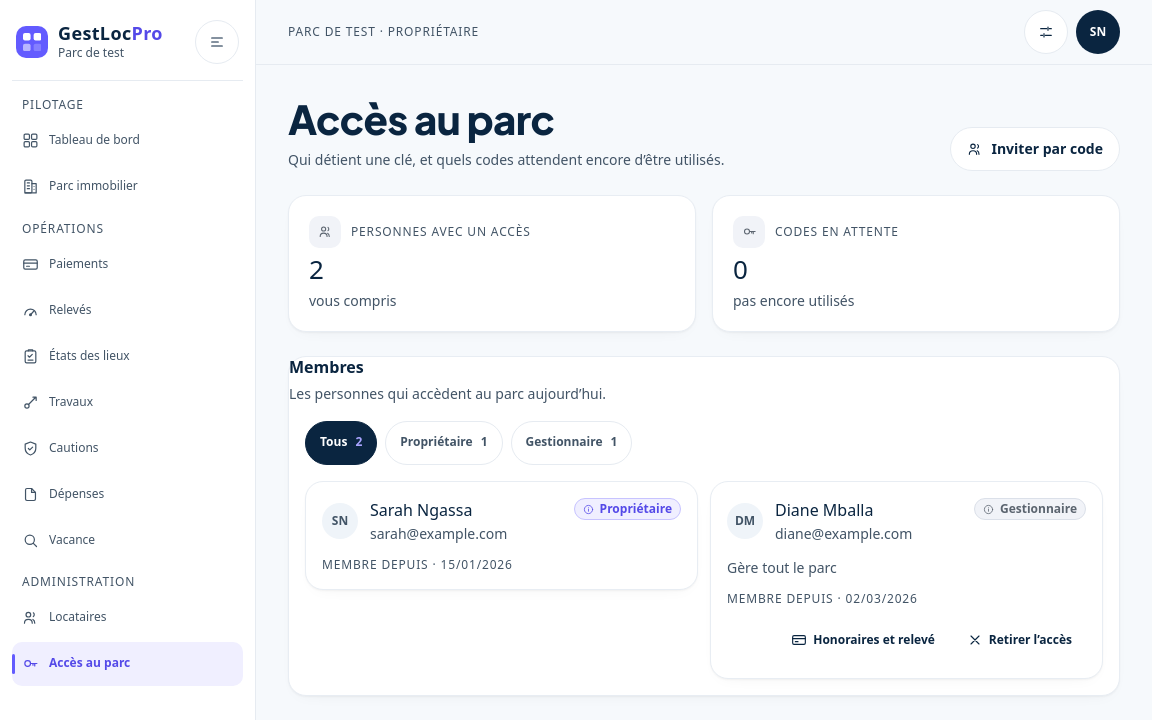
ce que la boîte dit du compte-rendu › ANNONCE UN CALCUL VIVANT tant que rien n’est émis
The width and height of the screenshot is (1152, 720).
Click the button with aria-label "Honoraires et relevé — Diane Mballa": (863, 640) [777, 618, 949, 662]
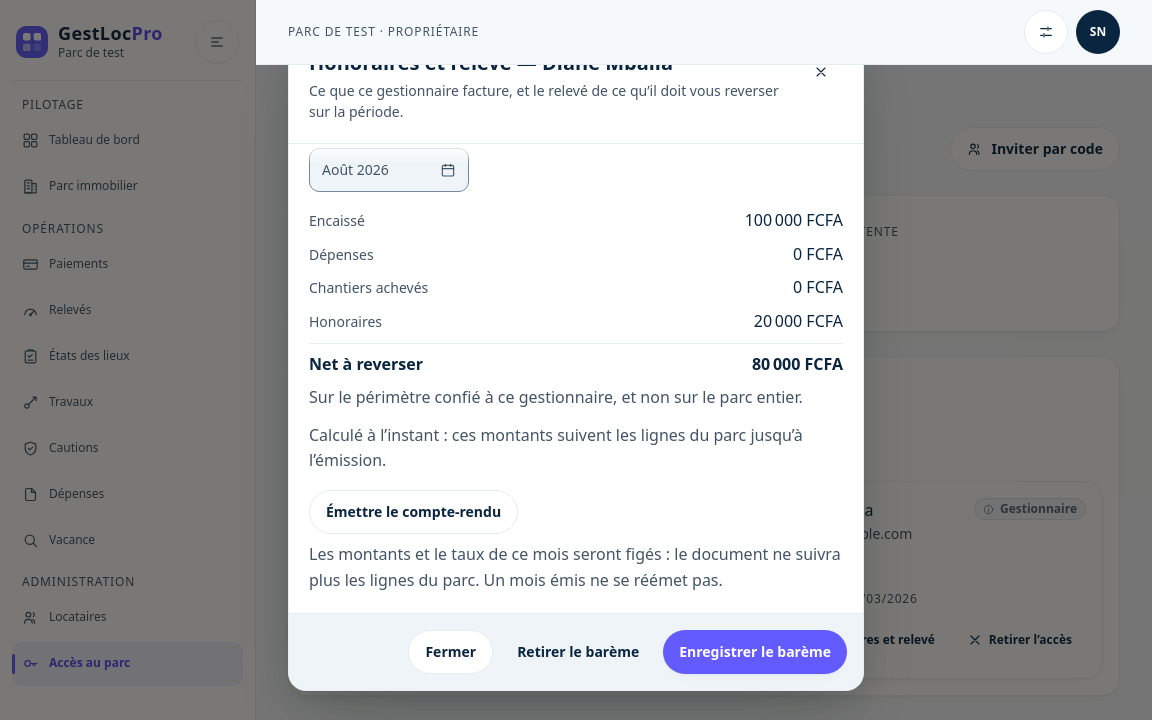
Check: the text "suivent les lignes du parc" is shown, box [309, 424, 803, 471]
